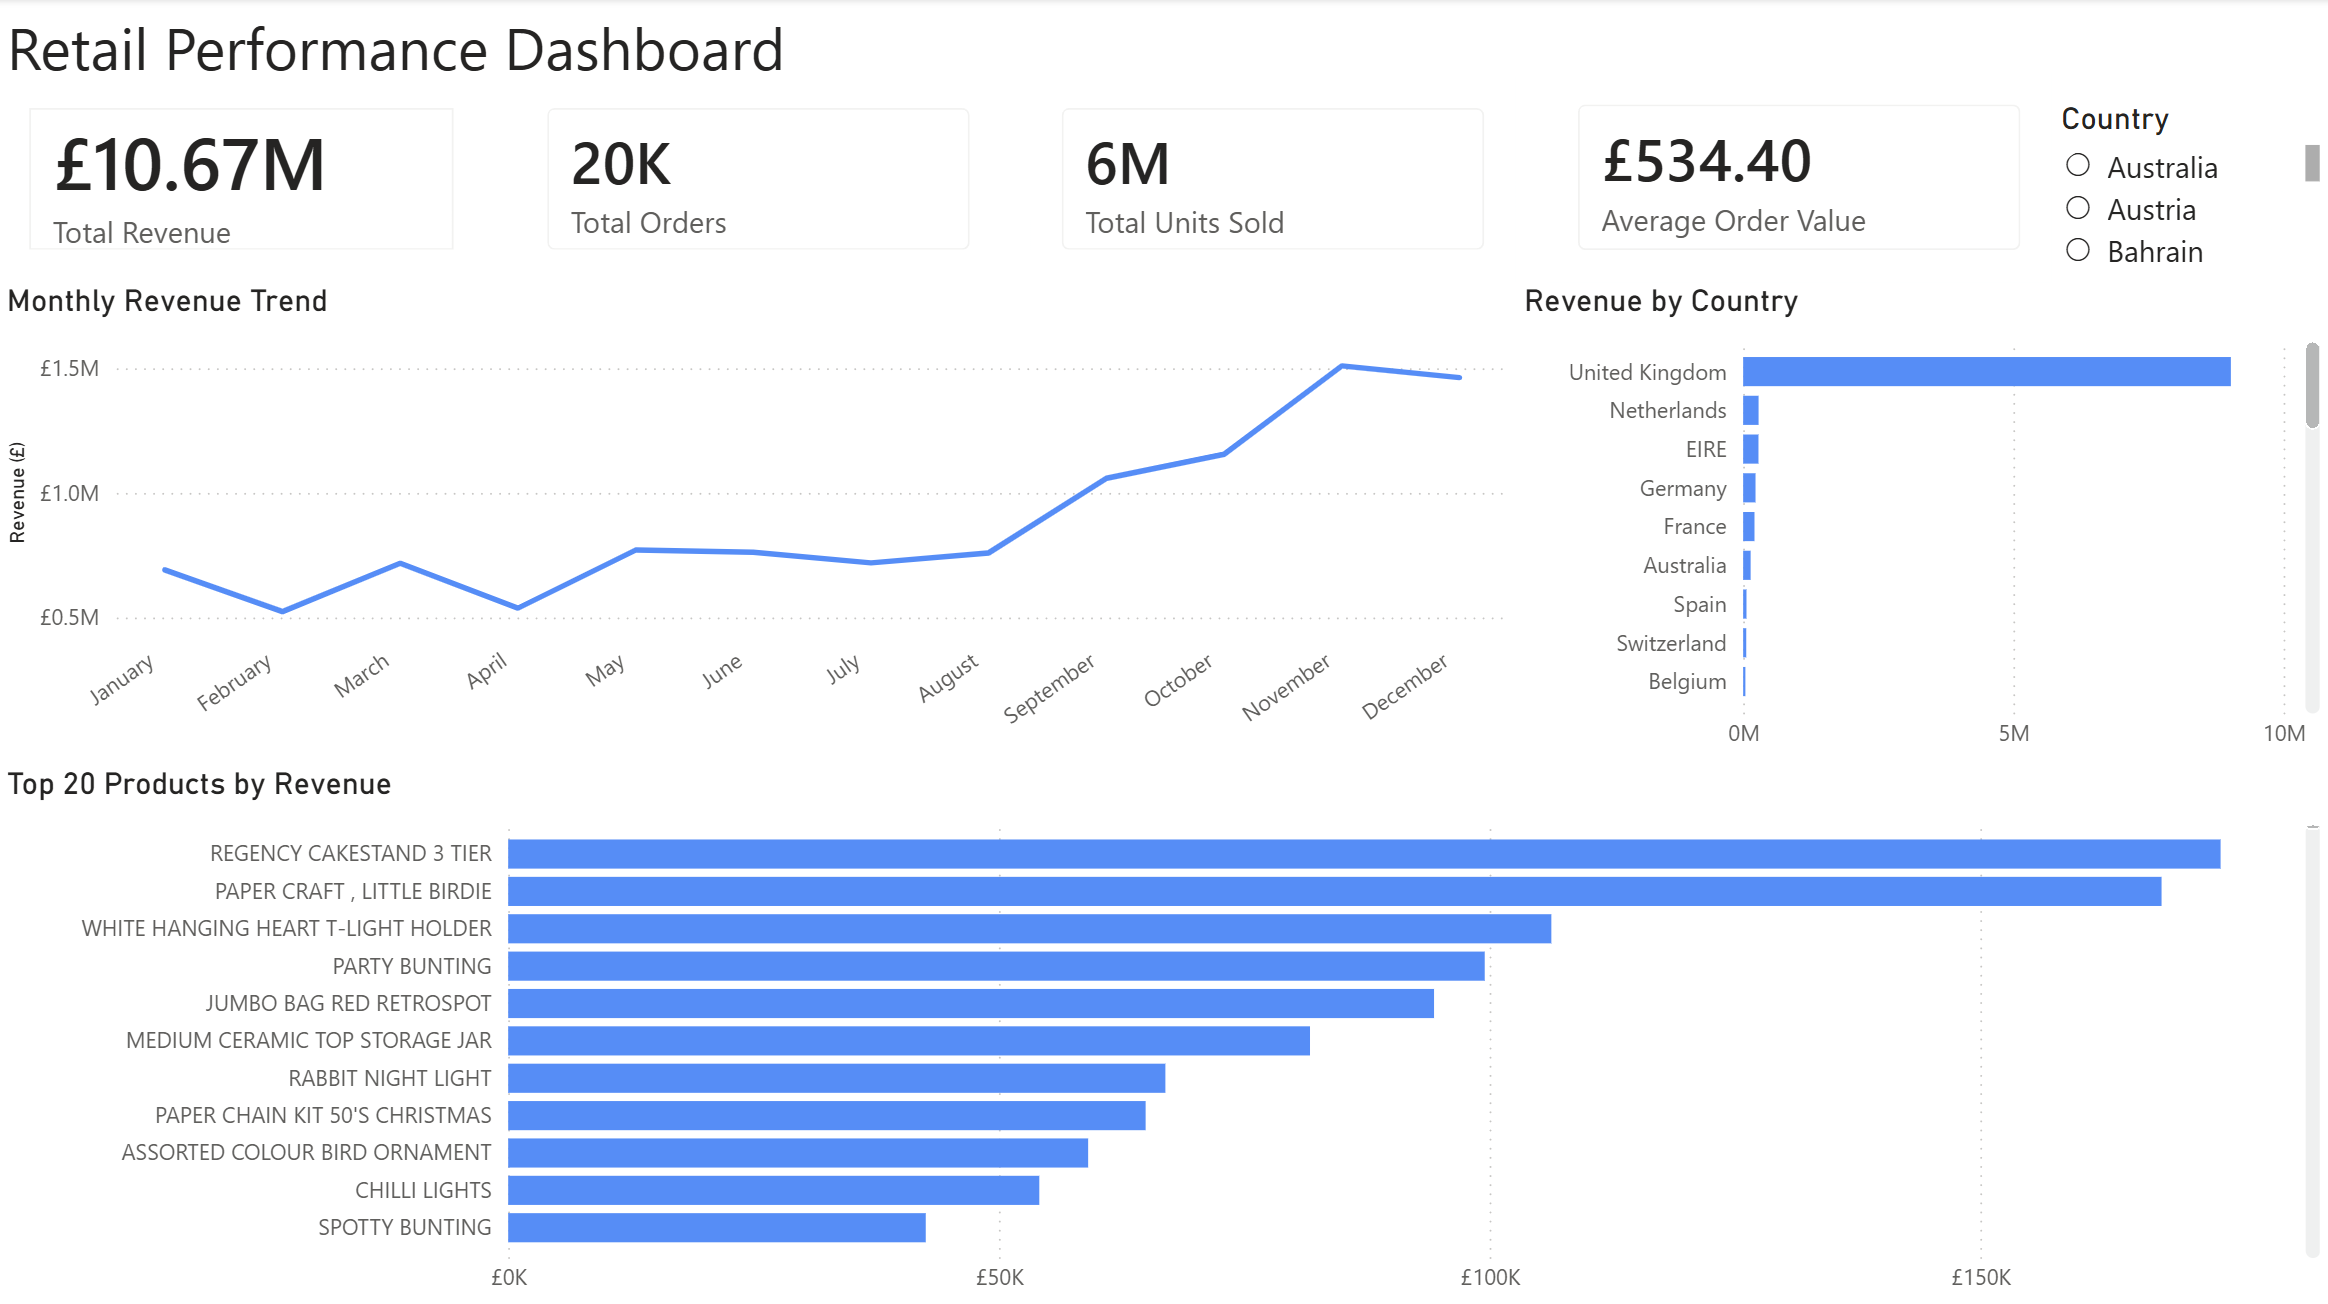

This screenshot's page, from the dashboard's own definition file:
{"tool":"powerbi","page":{"name":"Executive Overview","canvas":[1280,720],"ordinal":0},"visuals":[{"type":"textbox","box":[0,0,532.3,57],"z":0},{"type":"cardVisual","fields":{"Data":["_Measures.Total Revenue"]},"box":[0,43.5,267.1,112.8],"z":0,"group":"g1"},{"type":"cardVisual","fields":{"Data":["_Measures.Total Orders"]},"box":[284.2,43.5,266.2,112.8],"z":1000,"group":"g1"},{"type":"lineChart","title":"Monthly Revenue Trend","fields":{"Y":["Sum(vw_monthly_revenue.MonthlyRevenue)"],"Category":["vw_monthly_revenue.MonthName"]},"box":[0,156.3,833.3,265.1],"z":1000},{"type":"cardVisual","fields":{"Data":["_Measures.Total Units Sold"]},"box":[567.4,43.5,266.2,112.8],"z":2000,"group":"g1"},{"type":"clusteredBarChart","title":"Revenue by Country","fields":{"Category":["vw_revenue_by_country.Country"],"Y":["Sum(vw_revenue_by_country.TotalRevenue)"]},"box":[833.3,156.3,446.7,265.1],"z":2000},{"type":"cardVisual","fields":{"Data":["_Measures.Average Order Value"]},"box":[850.6,41.2,277.3,114.9],"z":3000,"group":"g1"},{"type":"clusteredBarChart","title":"Top 20 Products by Revenue","fields":{"Category":["vw_top_products.Description"],"Y":["Sum(vw_top_products.TotalRevenue)"]},"box":[0,421.4,1280,298.9],"z":3000},{"type":"group","id":"g1","title":"Group 1","box":[0,41.2,1127.9,115.1],"z":4000},{"type":"listSlicer","fields":{"Values":["vw_revenue_by_country.Country"]},"box":[1127.9,57,152.1,99.3],"z":5000}]}

Visuals, with their boxes in screenshot pixels (x1, y1, x2, y2), scaled from the page's 1280x720 canvas onto the 2328x1304 screenshot:
textbox: BBox(0, 0, 968, 103)
cardVisual - _Measures.Total Revenue: BBox(0, 79, 486, 283)
cardVisual - _Measures.Total Orders: BBox(517, 79, 1001, 283)
"Monthly Revenue Trend" lineChart: BBox(0, 283, 1516, 763)
cardVisual - _Measures.Total Units Sold: BBox(1032, 79, 1516, 283)
"Revenue by Country" clusteredBarChart: BBox(1516, 283, 2327, 763)
cardVisual - _Measures.Average Order Value: BBox(1547, 75, 2051, 283)
"Top 20 Products by Revenue" clusteredBarChart: BBox(0, 763, 2327, 1303)
"Group 1" group: BBox(0, 75, 2051, 283)
listSlicer - vw_revenue_by_country.Country: BBox(2051, 103, 2327, 283)
